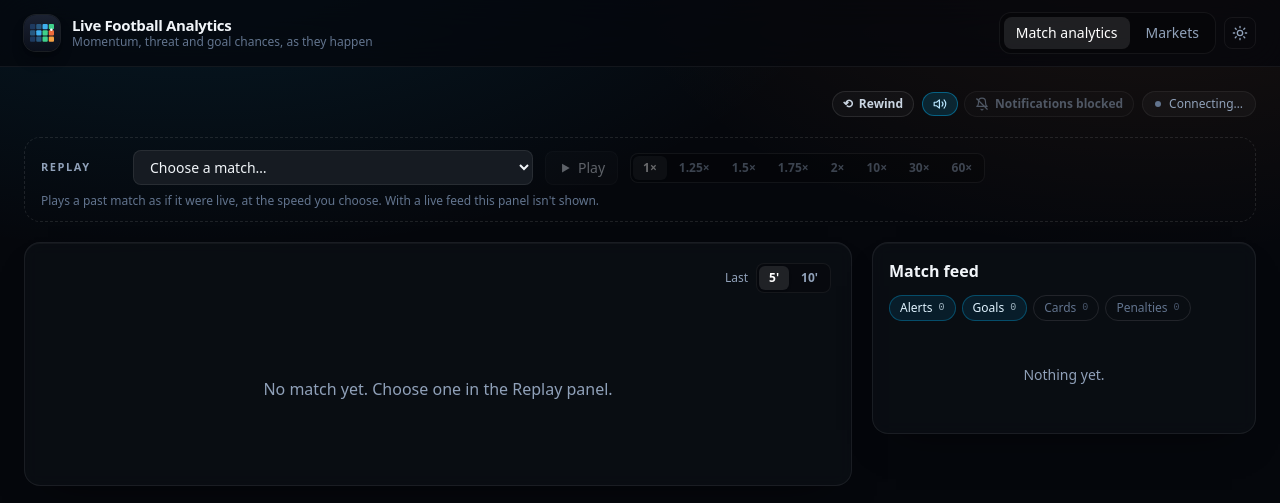
it: does not start the broadcast if the match fails to load
Select "Argentina v France · FIFA World Cup Final · 2022-12-18" in the dropdown named "Match" at point(333, 168), box [133,150,533,185]
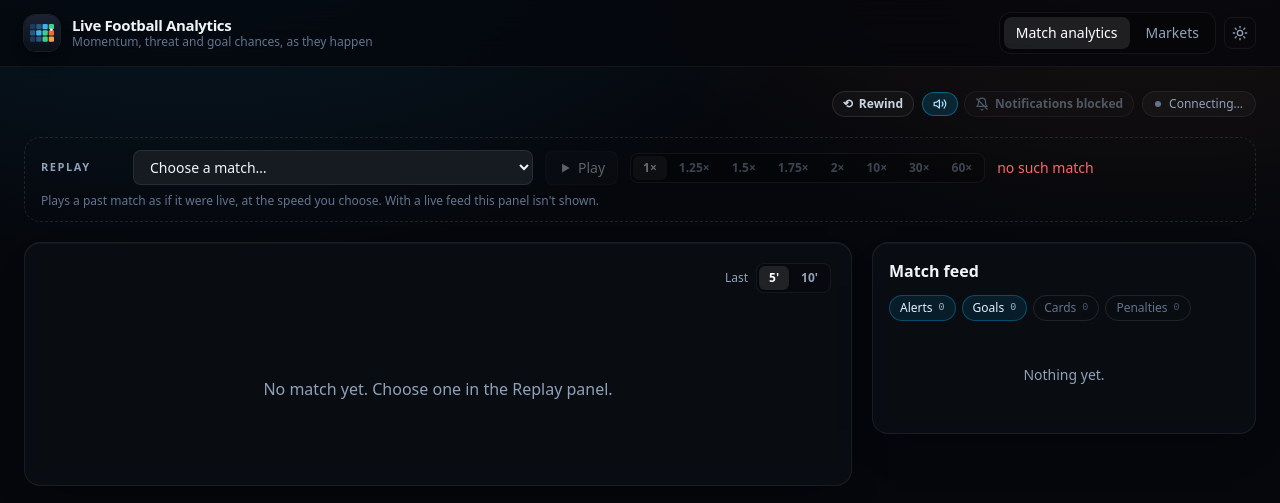
expect the message "no such match" is shown: met, box [997,158,1094,178]
